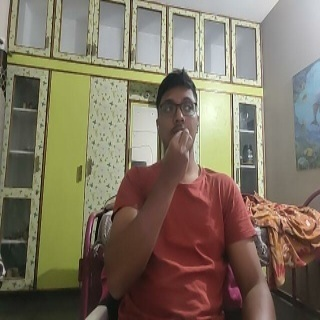Food: (158, 127, 194, 195)
